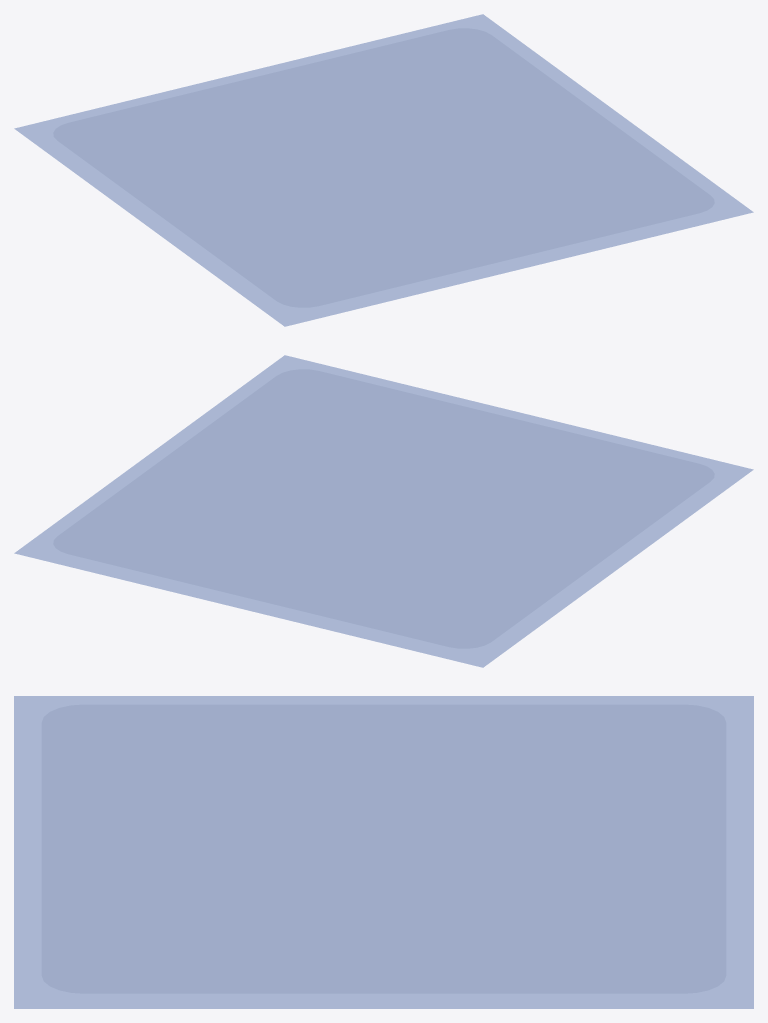
3 views of the same model, one above another, from view 1: azimuth 30°, elevation 25°; view 2: azimuth 150°, elevation 25°; view 3: azimuth 270°, elevation 25° (orthographic). The views are drawn at different scales.
Visible parts, largest first — view 1: Grid; view 2: Grid; view 3: Grid.
Boxes of the visible parts, left/top/right/bottom form: Grid: left=14, top=14, right=753, bottom=326; Grid: left=14, top=355, right=753, bottom=667; Grid: left=14, top=696, right=753, bottom=1008.
Bounding box in the file's own units: 100 × 0.5 × 100.
